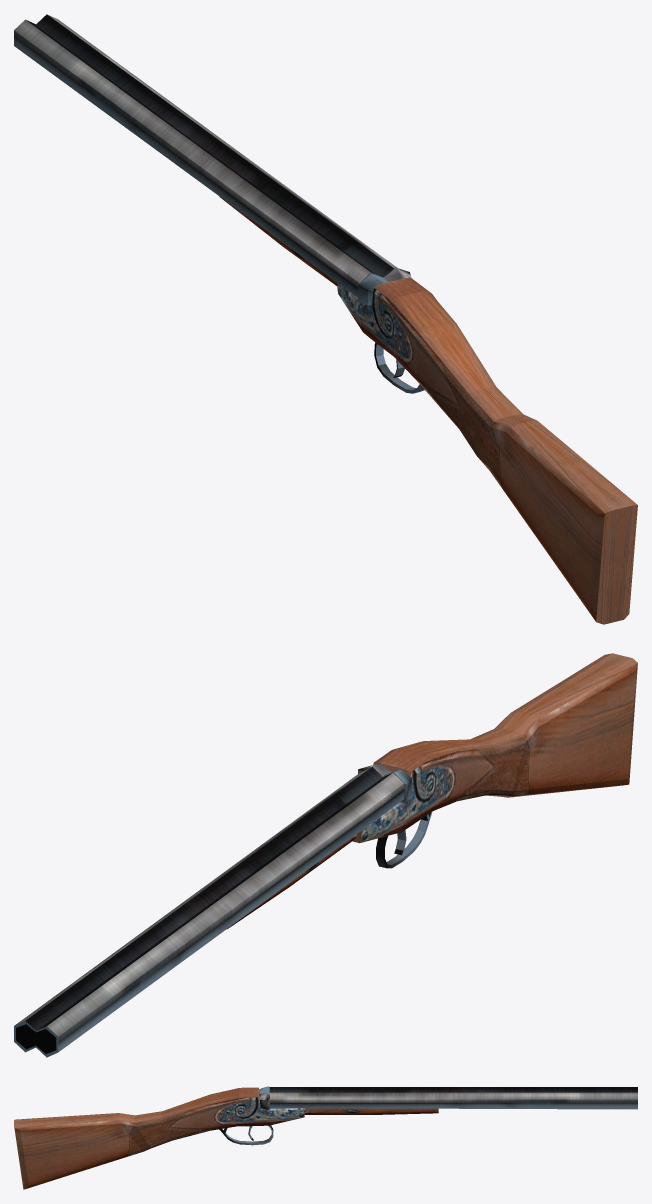
File: shotgun 1.fbx
3 renders of one model, top to bottom at view 1: azimuth 30°, elevation 25°; view 2: azimuth 150°, elevation 25°; view 3: azimuth 270°, elevation 25°, orthographic. The views are drawn at different scales.
Parts seen in each view (by area): view 1: Cube.003, Cube.001; view 2: Cube.003, Cube.001; view 3: Cube.003, Cube.001.
Boxes of the visible parts, bbox=[...] form: Cube.003: bbox=[337, 267, 637, 624]; Cube.001: bbox=[14, 14, 397, 297]; Cube.003: bbox=[352, 653, 637, 868]; Cube.001: bbox=[14, 767, 404, 1057]; Cube.003: bbox=[14, 1086, 304, 1189]; Cube.001: bbox=[269, 1087, 637, 1114].
Bounding box in the file's own units: 15.12 × 51.04 × 296.
